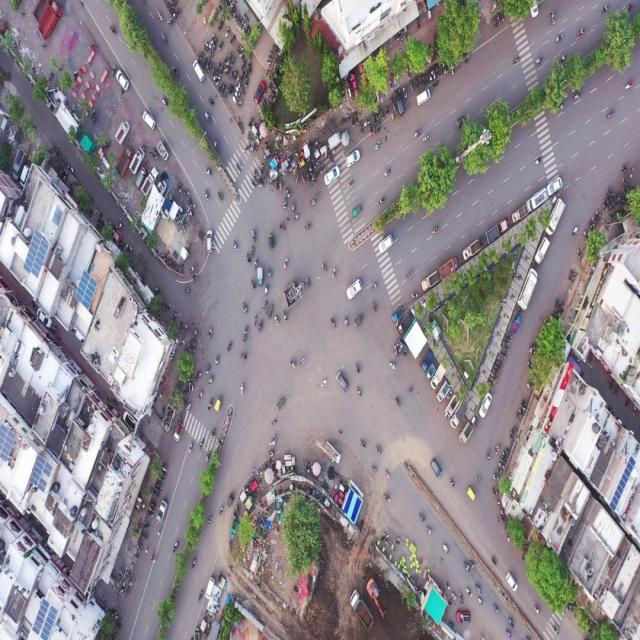3W: (351, 201, 364, 220), (225, 488, 235, 512), (265, 230, 275, 252), (256, 265, 265, 286), (214, 394, 223, 415), (467, 483, 476, 504), (276, 394, 287, 411), (353, 313, 363, 331), (455, 114, 467, 129), (266, 304, 276, 321)
Cars: (334, 367, 350, 396), (345, 277, 364, 301), (324, 165, 341, 190), (534, 239, 551, 264), (429, 456, 445, 480), (116, 67, 132, 91), (478, 394, 494, 418), (376, 233, 394, 254), (394, 88, 405, 118), (344, 150, 361, 169), (415, 87, 432, 106), (191, 60, 205, 82), (547, 175, 562, 195), (505, 569, 518, 592), (253, 80, 266, 103), (142, 109, 155, 131), (205, 228, 214, 257), (455, 608, 472, 623), (205, 576, 215, 598)
LCV: (517, 268, 538, 309), (545, 197, 566, 236), (526, 188, 547, 214), (439, 255, 459, 280), (143, 168, 159, 196), (325, 440, 341, 465), (115, 118, 130, 144), (433, 363, 447, 390), (463, 237, 480, 259), (130, 148, 144, 174), (452, 405, 467, 428), (422, 269, 438, 290), (445, 396, 459, 418), (511, 204, 527, 223), (156, 499, 168, 524), (328, 130, 343, 150), (398, 315, 411, 336), (460, 423, 473, 444), (435, 382, 449, 401), (157, 141, 169, 161), (421, 350, 433, 369), (174, 421, 184, 442), (511, 314, 521, 334), (397, 340, 408, 356), (425, 363, 435, 380), (392, 307, 402, 322)
M2W: (231, 237, 240, 255), (171, 63, 182, 77), (159, 30, 170, 44), (240, 298, 249, 315), (331, 266, 341, 281), (250, 226, 258, 244), (388, 360, 400, 372), (377, 193, 386, 209), (383, 164, 392, 180), (108, 24, 118, 38), (319, 258, 327, 275), (208, 428, 217, 443), (238, 382, 247, 397), (213, 354, 222, 369), (358, 439, 368, 452), (493, 602, 501, 618), (171, 540, 180, 554), (353, 359, 362, 373), (156, 8, 165, 22), (493, 444, 502, 458), (190, 556, 198, 571), (187, 439, 195, 454), (203, 363, 211, 378), (207, 395, 214, 412), (484, 448, 491, 465), (160, 96, 169, 109), (207, 511, 213, 530), (244, 251, 251, 267), (233, 159, 241, 173), (205, 164, 213, 178), (202, 186, 209, 202), (207, 95, 215, 109), (309, 198, 317, 212), (281, 196, 288, 212), (257, 318, 264, 334), (606, 110, 616, 121), (283, 258, 292, 270), (507, 615, 516, 627), (288, 359, 297, 371), (431, 225, 440, 237), (404, 270, 413, 282), (197, 389, 204, 404), (204, 449, 211, 464), (213, 139, 221, 152), (462, 559, 470, 572), (477, 594, 485, 607), (533, 604, 541, 617), (576, 248, 584, 261), (218, 501, 224, 518), (303, 222, 313, 232), (511, 55, 521, 65), (534, 157, 544, 167), (623, 81, 633, 91), (576, 27, 585, 38), (475, 582, 484, 593), (199, 437, 206, 451), (343, 316, 350, 330), (395, 395, 402, 409), (204, 109, 211, 123), (457, 589, 464, 603), (281, 309, 288, 323), (226, 340, 232, 356), (551, 624, 559, 636), (306, 273, 311, 292), (198, 589, 205, 602), (371, 300, 378, 313), (371, 279, 378, 292), (384, 491, 391, 504), (414, 126, 421, 139), (268, 419, 278, 428), (559, 53, 568, 63), (556, 103, 565, 113), (240, 336, 249, 346), (502, 344, 511, 354), (587, 219, 593, 234), (555, 33, 563, 44), (424, 524, 432, 535), (241, 324, 249, 335), (240, 352, 247, 364), (208, 375, 215, 387), (406, 385, 413, 397), (375, 444, 382, 456), (216, 189, 223, 201), (571, 225, 578, 237), (442, 542, 449, 554), (469, 558, 476, 570), (285, 186, 292, 198), (374, 140, 381, 152), (552, 297, 559, 309), (534, 56, 543, 65), (600, 4, 609, 13), (250, 244, 255, 260), (418, 512, 426, 522), (411, 290, 419, 300), (356, 386, 362, 399), (372, 463, 378, 476), (293, 211, 299, 224), (110, 65, 116, 78), (208, 327, 214, 340), (402, 86, 408, 99), (479, 234, 485, 247), (596, 210, 602, 223), (329, 318, 336, 329), (320, 377, 327, 388), (465, 587, 472, 598), (505, 629, 512, 640), (267, 266, 272, 281), (449, 617, 455, 629), (263, 284, 269, 296), (187, 401, 193, 413), (509, 433, 515, 445), (509, 425, 517, 434), (515, 411, 521, 423), (552, 310, 560, 319), (569, 270, 578, 278), (384, 469, 391, 479), (279, 223, 286, 233), (448, 479, 455, 489), (450, 591, 457, 601), (217, 41, 224, 51), (300, 358, 306, 369), (250, 279, 256, 290), (224, 27, 230, 38), (231, 33, 237, 44), (247, 117, 253, 128), (253, 258, 258, 271), (210, 32, 215, 45), (350, 115, 355, 128), (353, 112, 358, 125), (384, 105, 389, 118), (495, 357, 503, 365), (573, 92, 580, 101), (261, 300, 268, 309), (142, 525, 151, 532), (257, 469, 264, 478), (432, 80, 439, 89), (527, 382, 534, 391), (192, 270, 197, 282), (491, 557, 497, 567), (446, 579, 451, 591), (274, 315, 279, 327), (218, 21, 223, 33), (241, 60, 246, 72), (215, 76, 221, 86), (300, 174, 306, 184), (347, 179, 353, 189), (359, 123, 364, 135), (558, 303, 564, 313), (568, 275, 574, 285), (306, 171, 310, 185), (492, 474, 499, 482), (239, 47, 244, 58), (216, 61, 221, 72), (185, 286, 191, 295), (217, 5, 223, 14), (237, 76, 241, 89), (309, 163, 313, 176), (320, 161, 324, 174), (291, 200, 295, 213), (436, 65, 440, 78), (493, 16, 497, 29), (423, 133, 428, 143), (228, 52, 233, 62), (219, 66, 224, 76), (205, 41, 212, 48), (499, 351, 506, 358), (492, 368, 499, 375), (506, 332, 513, 339), (203, 45, 209, 53), (241, 85, 245, 97), (138, 542, 144, 550), (279, 179, 283, 191), (328, 152, 332, 164), (368, 125, 372, 137), (372, 124, 376, 136), (377, 122, 381, 134), (380, 110, 384, 122), (389, 79, 393, 91), (410, 81, 414, 93), (503, 450, 509, 458), (592, 214, 596, 226), (501, 10, 505, 22), (213, 38, 218, 47), (198, 51, 203, 60), (521, 404, 526, 413), (221, 83, 225, 94), (260, 163, 264, 174), (414, 78, 418, 89), (268, 450, 275, 456), (142, 533, 148, 540), (147, 512, 154, 518), (151, 501, 157, 508), (153, 491, 160, 497), (497, 468, 503, 475), (499, 463, 505, 470), (245, 78, 249, 88), (240, 71, 244, 81), (234, 70, 238, 80), (209, 61, 213, 71), (372, 115, 376, 125), (419, 76, 422, 89), (497, 14, 500, 27), (229, 70, 233, 79), (423, 75, 426, 87), (443, 62, 446, 74), (426, 75, 429, 87), (248, 63, 251, 74), (232, 57, 235, 67), (296, 173, 299, 183)
Truck: (349, 590, 374, 628), (38, 0, 61, 39), (116, 145, 133, 180)
